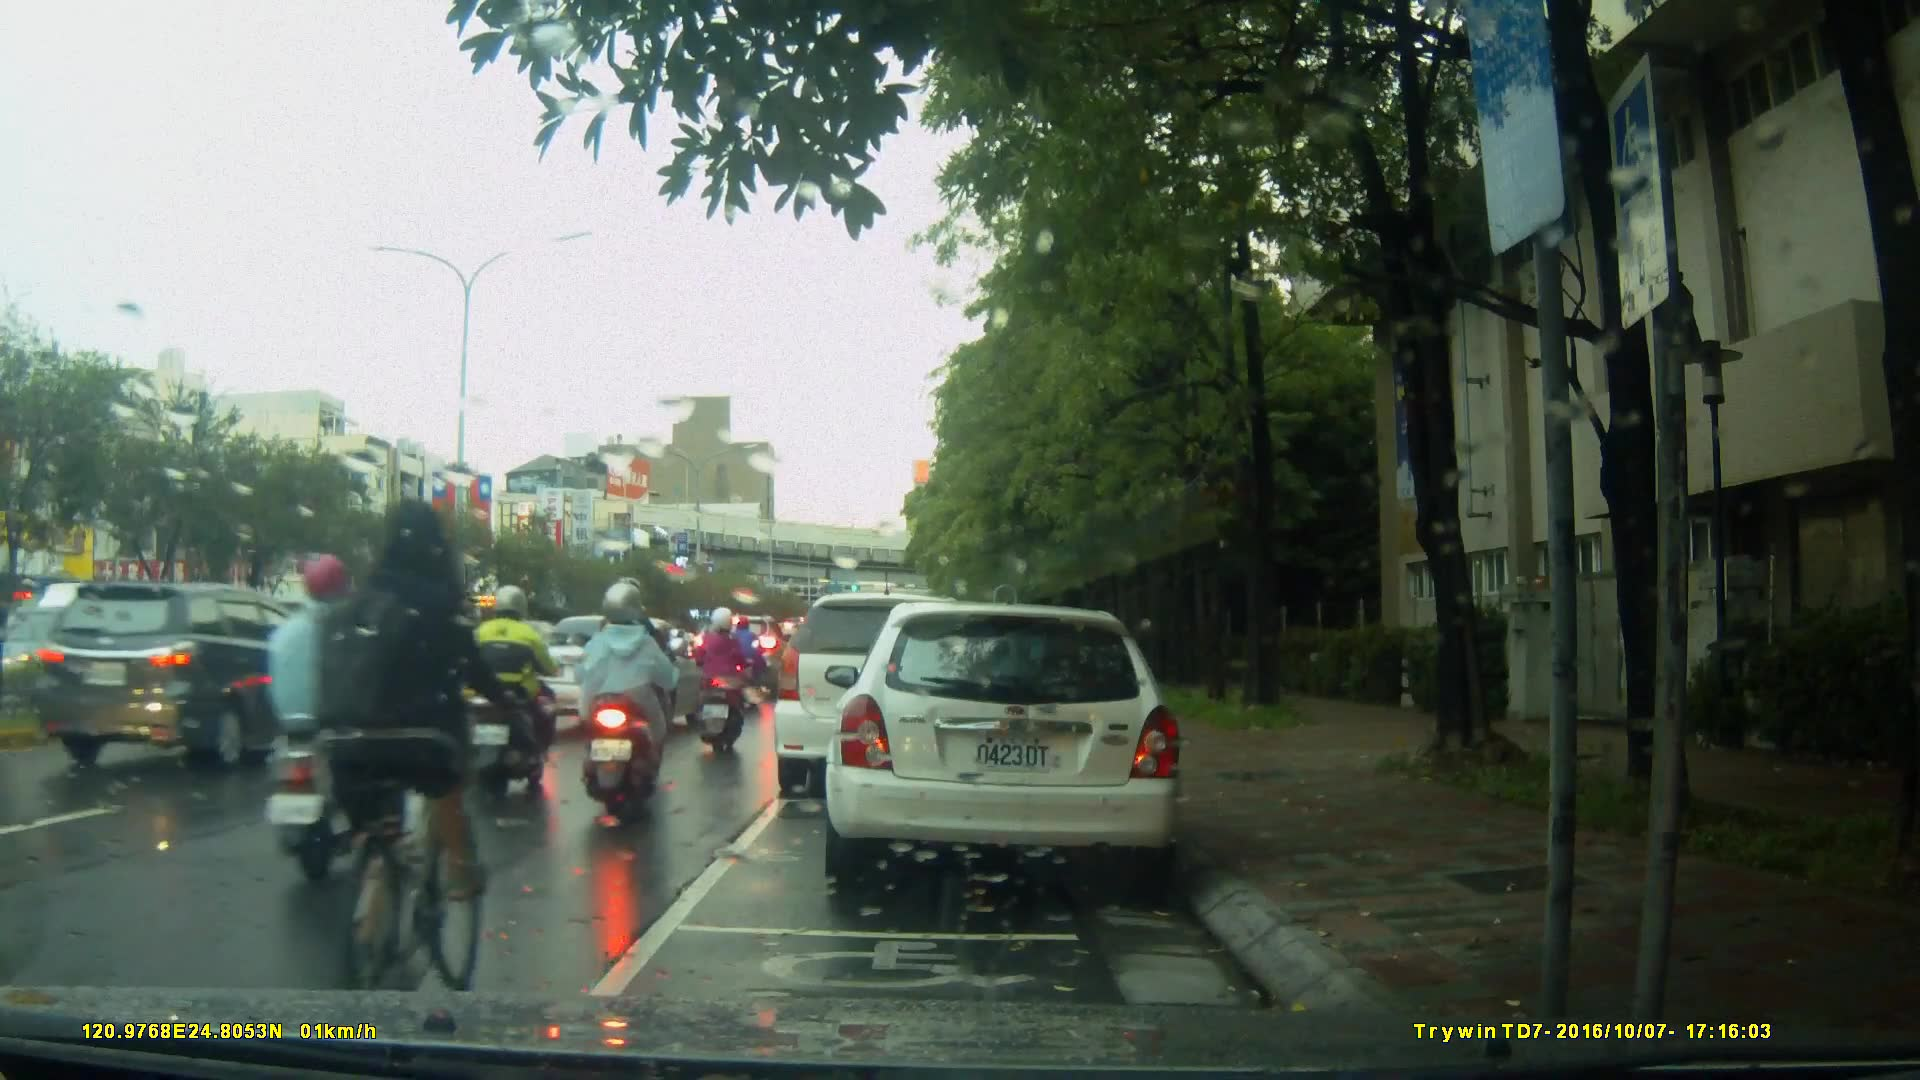rider: (314, 492, 523, 1002), (277, 548, 404, 895), (587, 579, 676, 821), (468, 584, 569, 795), (597, 580, 681, 782), (688, 611, 751, 763), (722, 610, 767, 692)
vehicle: (822, 604, 1188, 883), (40, 578, 357, 780), (774, 595, 995, 802), (695, 614, 795, 702)
